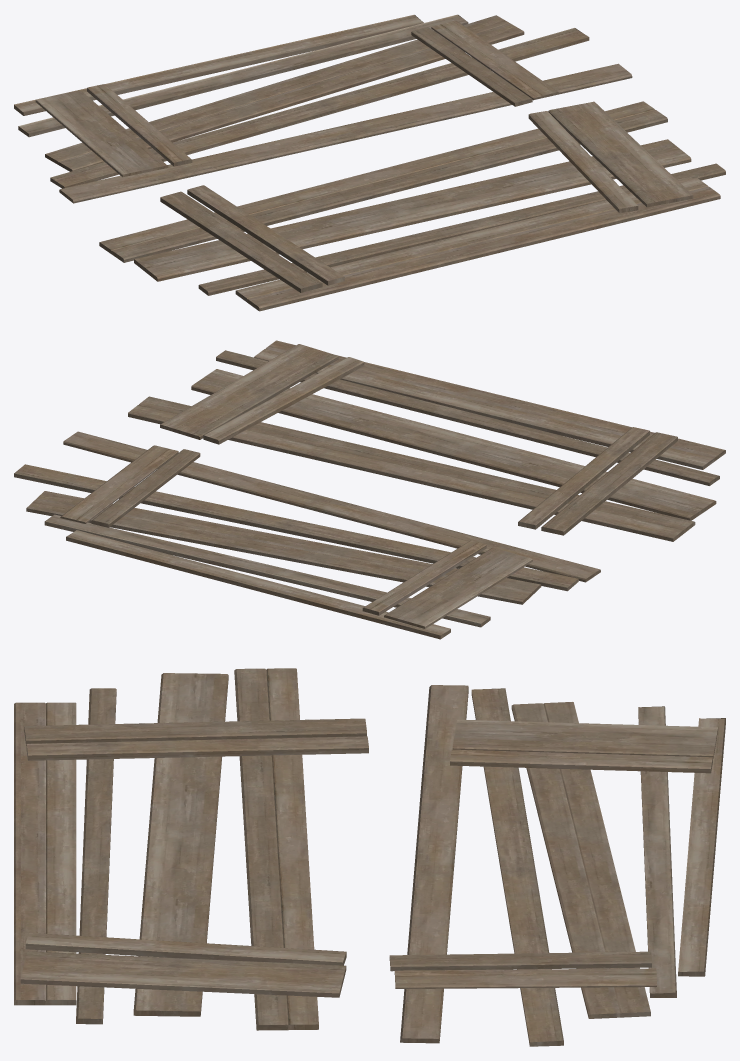
3 views of the same model, one above another, from view 1: azimuth 30°, elevation 25°; view 2: azimuth 150°, elevation 25°; view 3: azimuth 270°, elevation 25° (orthographic). The views are drawn at different scales.
Visible parts, largest first — view 1: body0_model0_lod0_mesh0; view 2: body0_model0_lod0_mesh0; view 3: body0_model0_lod0_mesh0.
Boxes of the visible parts, x1,y1,x2,y2 form: body0_model0_lod0_mesh0: (14,14,725,311); body0_model0_lod0_mesh0: (14,340,725,639); body0_model0_lod0_mesh0: (14,668,725,1046).
Bounding box in the file's own units: 346 × 5.2 × 279.
Materials: 1 (1 with a texture image).
